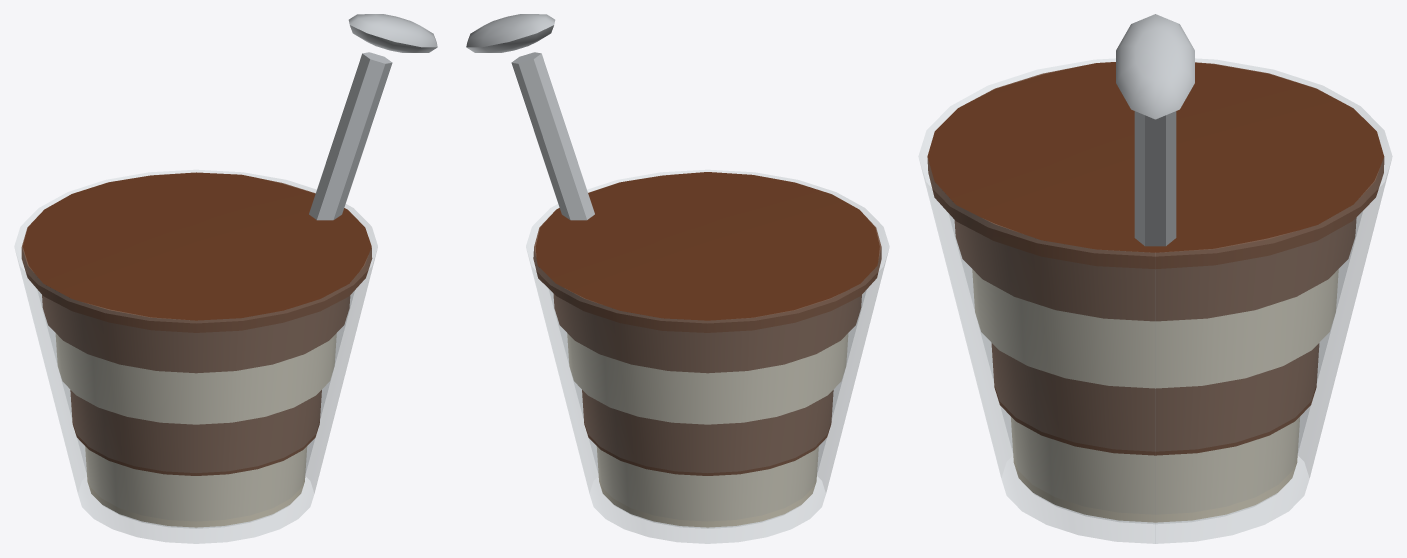
The model's file is dessert_tiramisu_cup.glb.
3 views of the same model, side by side, from view 1: azimuth 30°, elevation 25°; view 2: azimuth 150°, elevation 25°; view 3: azimuth 270°, elevation 25° (orthographic). The views are drawn at different scales.
Visible parts, largest first — view 1: dessert_tiramisu_cup; view 2: dessert_tiramisu_cup; view 3: dessert_tiramisu_cup.
Boxes of the visible parts, x1,y1,x2,y2 form: dessert_tiramisu_cup: (14, 14, 437, 543); dessert_tiramisu_cup: (466, 14, 889, 543); dessert_tiramisu_cup: (918, 14, 1392, 543).
Size of the model in its own units: 0.1011 by 0.1057 by 0.08.
